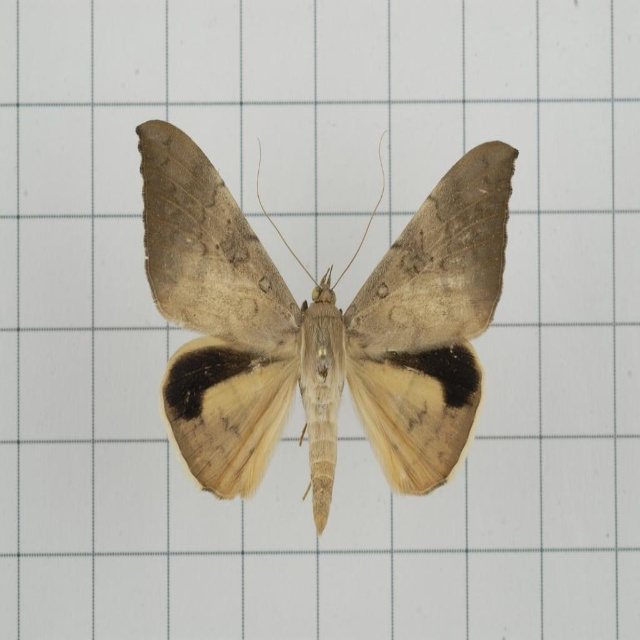Butterfly: (145, 125, 499, 549)
